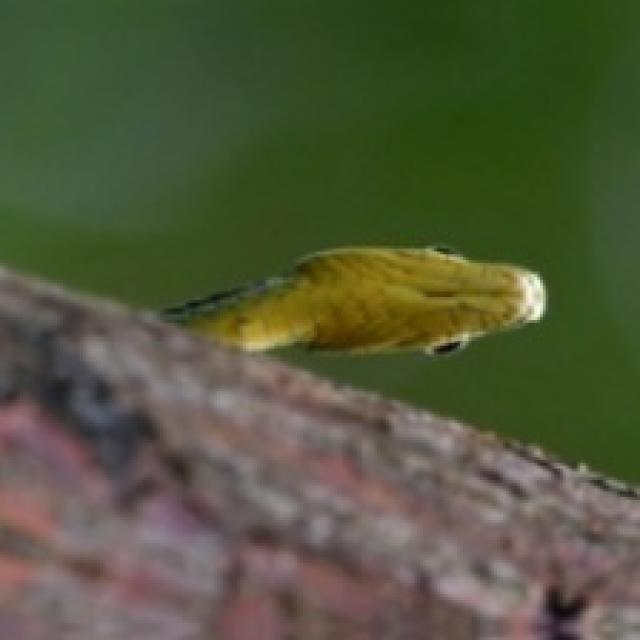paradise tree snake: (163, 246, 543, 351)
